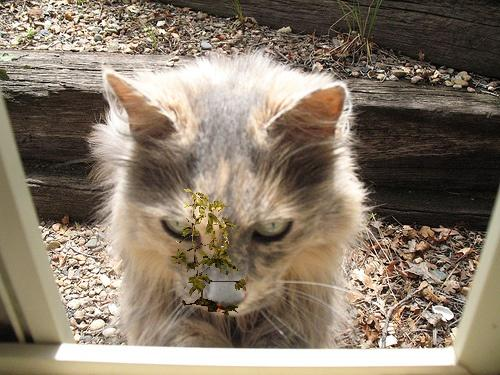tampered: (172, 190, 246, 316)
